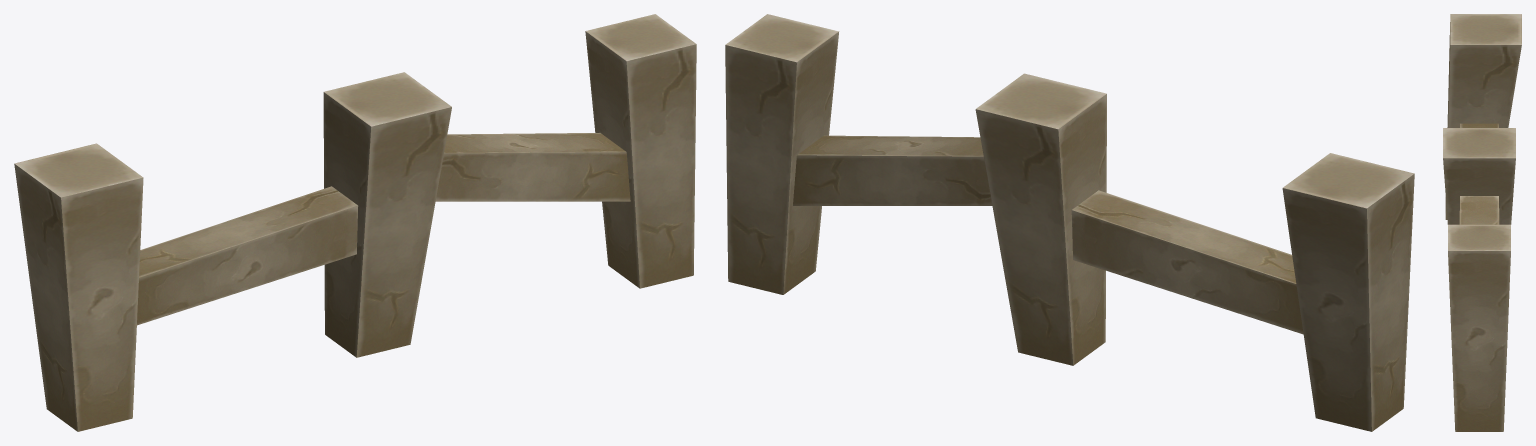
Rendered from stone_37.FBX.
The picture shows the model from 3 angles, left to right: view 1: azimuth 30°, elevation 25°; view 2: azimuth 150°, elevation 25°; view 3: azimuth 270°, elevation 25°; orthographic projection. The views are drawn at different scales.
Parts seen in each view (by area): view 1: Box08; view 2: Box08; view 3: Box08.
Part boxes in pixels (x1,y1,x2,y2): Box08: [14, 14, 696, 431]; Box08: [725, 14, 1414, 431]; Box08: [1443, 14, 1521, 431].
Size of the model in its own units: 363 by 128 by 50.98.
